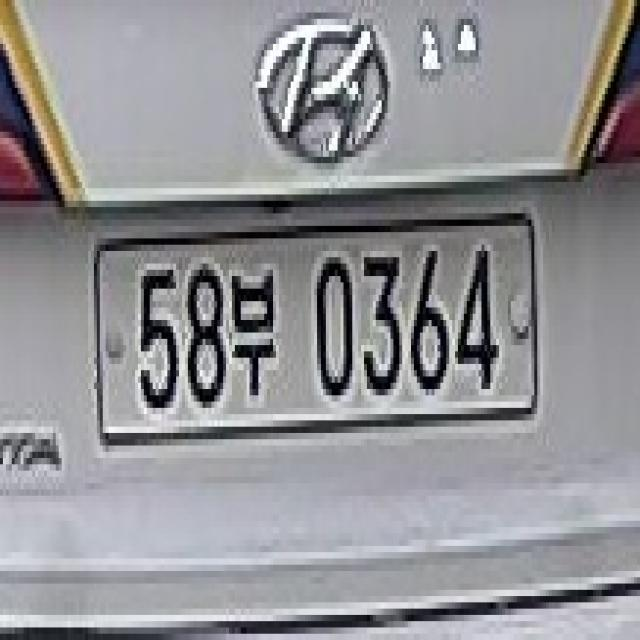0: (311, 249, 356, 406)
3: (361, 247, 404, 401)
4: (454, 238, 502, 400)
5: (134, 264, 180, 412)
6: (410, 238, 450, 403)
8: (182, 257, 227, 413)
bu: (232, 259, 278, 412)
license_plate: (86, 219, 544, 437)
